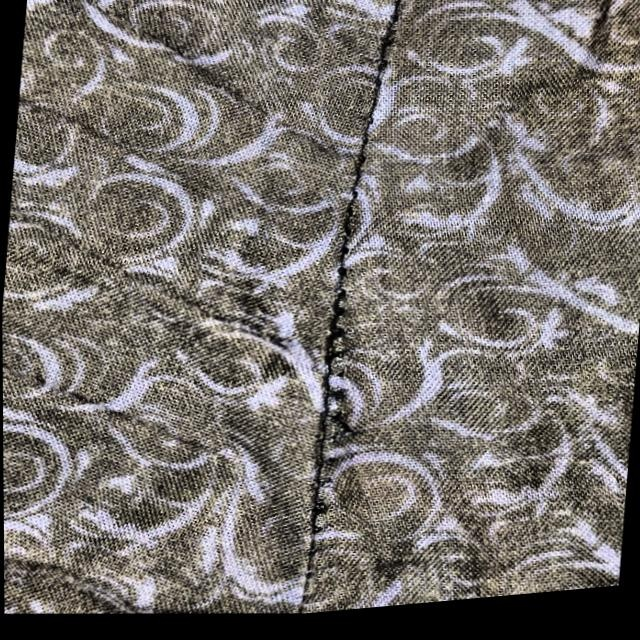seam: (261, 222, 410, 574)
